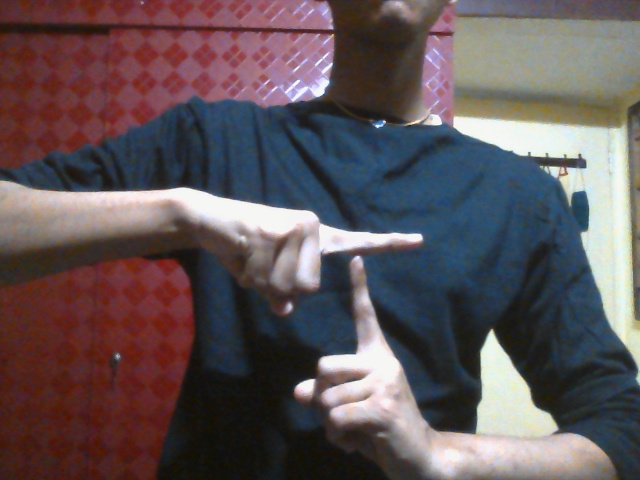T: (210, 196, 425, 461)
